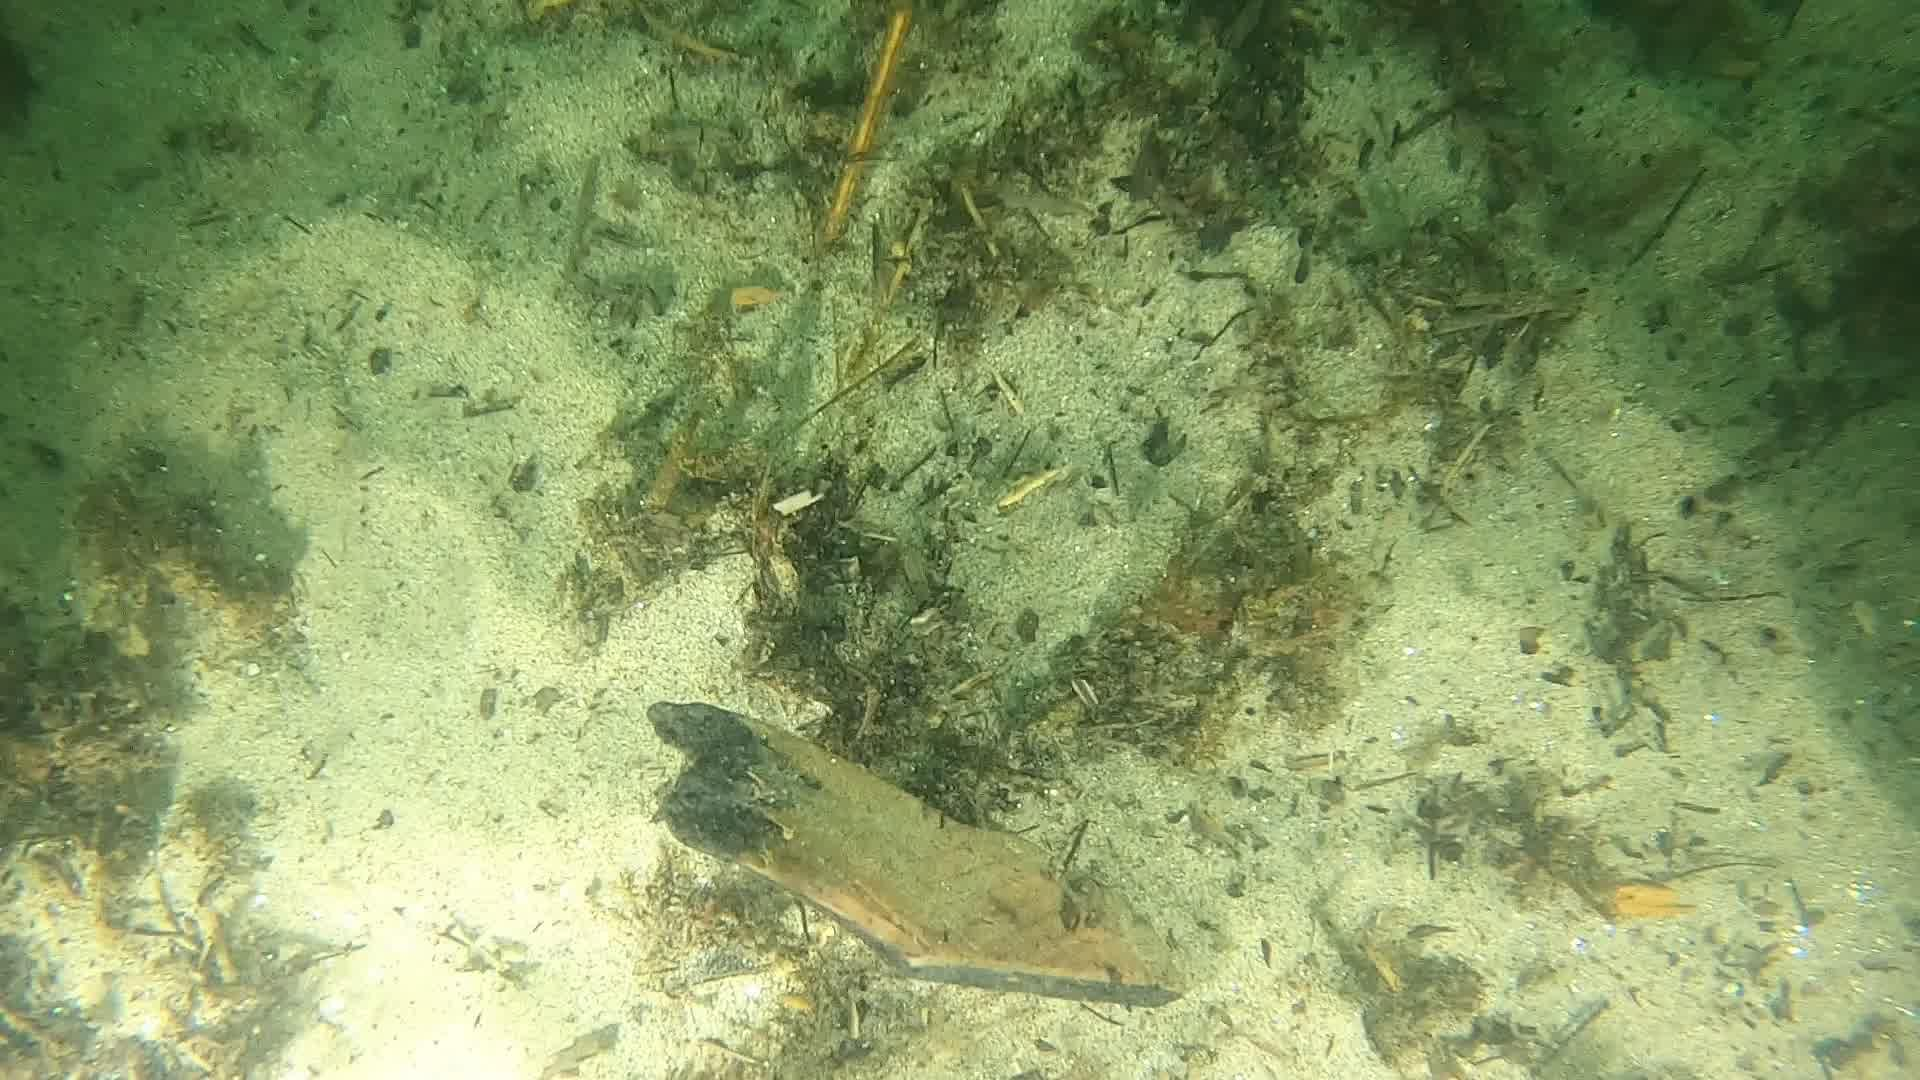wood: (642, 698, 1185, 1009)
